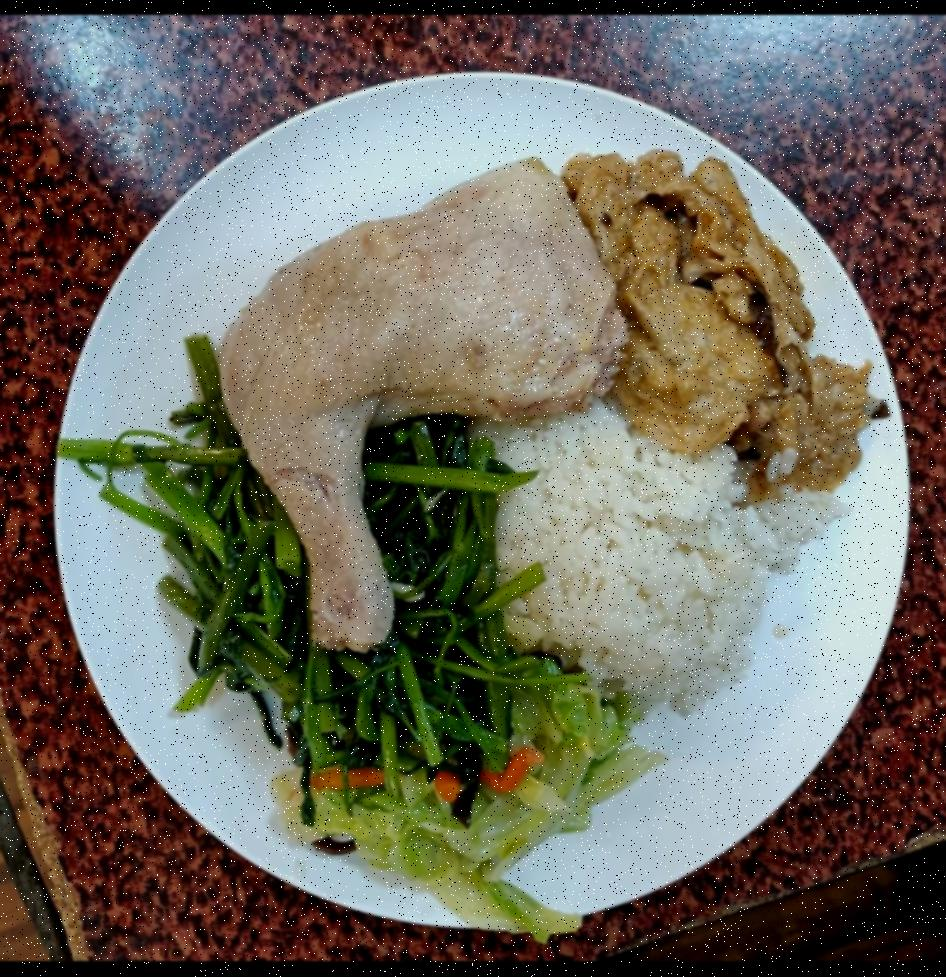big herbal chicken leg: (235, 153, 623, 654)
plate: (40, 60, 921, 948)
side dish: (160, 399, 527, 790), (571, 129, 893, 508), (268, 656, 640, 894)
white rice: (484, 382, 779, 697)
